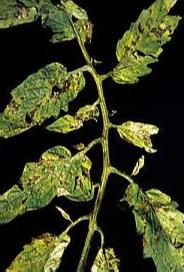Tomato Septoria leaf spot: (0, 143, 100, 237), (0, 60, 84, 150), (113, 173, 184, 272), (107, 0, 184, 87), (0, 233, 74, 272), (0, 0, 53, 37)
